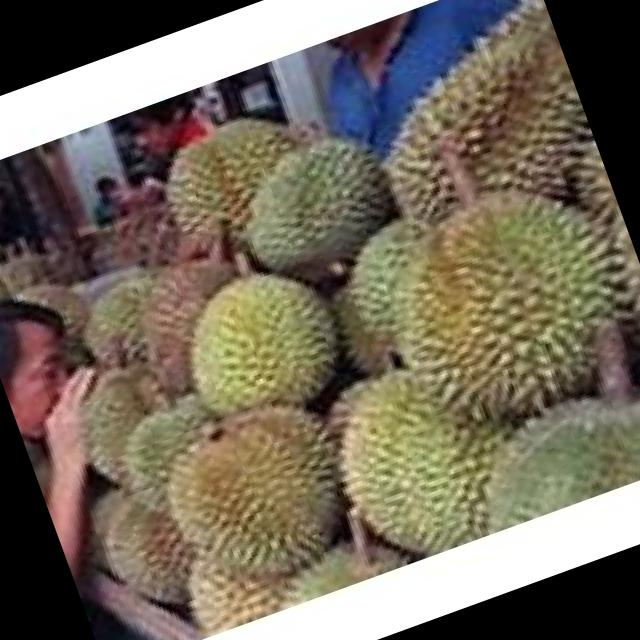fruit: (292, 128, 640, 518), (50, 326, 402, 640), (130, 56, 436, 355), (140, 228, 388, 472)
